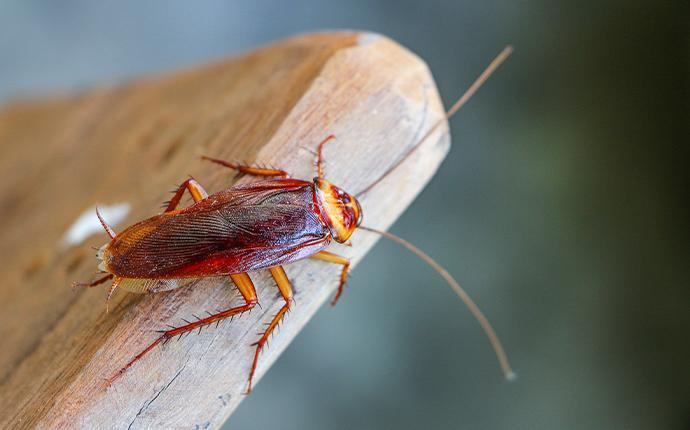cockroach: (86, 168, 371, 284)
